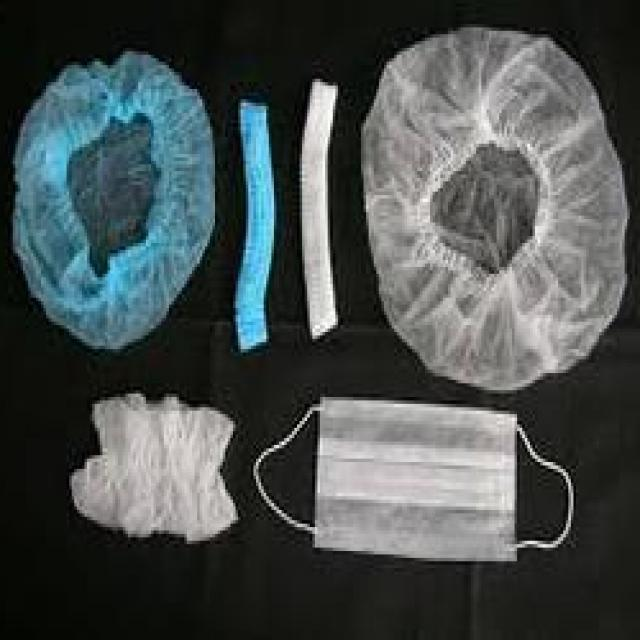face mask: (248, 390, 574, 558)
